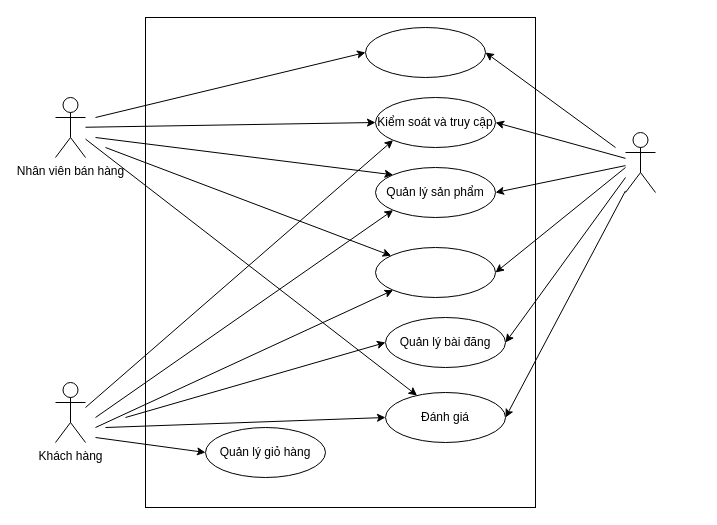
The diagram is 717 pixels wide and 525 high, and some of its shapes have lost their labels. The shapes that lost their labels are listed below. From the top down, each one's box as (x1, y1, x2, y2) in pixels, then its label:
(364, 26, 486, 78): Quản lý thanh toán
(624, 132, 656, 192): Quản trị viên hệ thống
(374, 246, 496, 298): Quản lý đơn hàng
